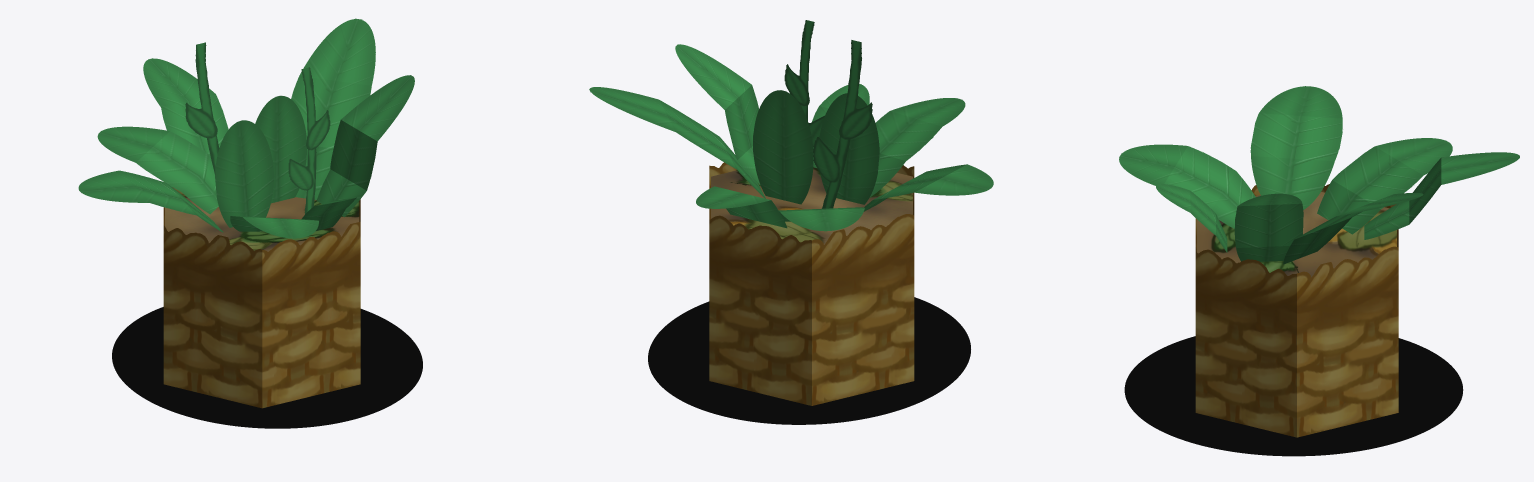
File: potted_plant.fbx
3 renders of one model, left to right at view 1: azimuth 30°, elevation 25°; view 2: azimuth 150°, elevation 25°; view 3: azimuth 270°, elevation 25°, orthographic. The views are drawn at different scales.
Visible parts, largest first — view 1: pCylinder1, bench_shadow, o5_8, o5_7, o5_1, o5, o5_5, pCylinder2, o10, o5_4, o8, o8_2 (+2 smaller); view 2: pCylinder1, bench_shadow, o10, pCylinder2, o5_7, o5_3, o5, o5_8, o8_2, o5_4, o5_5, o5_1 (+2 smaller); view 3: pCylinder1, bench_shadow, o5_4, o5_1, o5_3, pCylinder2, o5_7, o5_5, o5_8, o5_6.
Boxes of the visible parts, x1,y1,x2,y2 form: pCylinder1: (163, 199, 360, 408); bench_shadow: (112, 307, 422, 428); o5_8: (291, 18, 375, 199); o5_7: (316, 75, 414, 216); o5_1: (97, 126, 218, 214); o5: (215, 120, 274, 227); o5_5: (143, 58, 228, 155); pCylinder2: (165, 187, 359, 251); o10: (255, 95, 306, 203); o5_4: (78, 170, 223, 232); o8: (288, 67, 330, 213); o8_2: (185, 42, 219, 174); pCylinder1: (709, 162, 914, 405); bench_shadow: (648, 297, 970, 424); o10: (753, 90, 813, 204); pCylinder2: (711, 167, 912, 244); o5_7: (675, 44, 760, 184); o5_3: (870, 98, 965, 196); o5: (819, 93, 879, 204); o5_8: (589, 87, 765, 198); o8_2: (813, 40, 872, 208); o5_4: (864, 164, 993, 211); o5_5: (696, 186, 787, 228); o5_1: (778, 207, 864, 231); pCylinder1: (1195, 184, 1398, 437); bench_shadow: (1124, 336, 1463, 456); o5_4: (1250, 86, 1342, 209); o5_1: (1317, 138, 1452, 234); o5_3: (1119, 144, 1255, 228); pCylinder2: (1197, 192, 1396, 277); o5_7: (1234, 193, 1303, 261); o5_5: (1364, 152, 1519, 239); o5_8: (1283, 193, 1423, 264); o5_6: (1156, 184, 1227, 252).
Size of what is drawn, in the model's own units: 0.6736 by 0.5853 by 0.6638.
5 materials, 5 textured.
